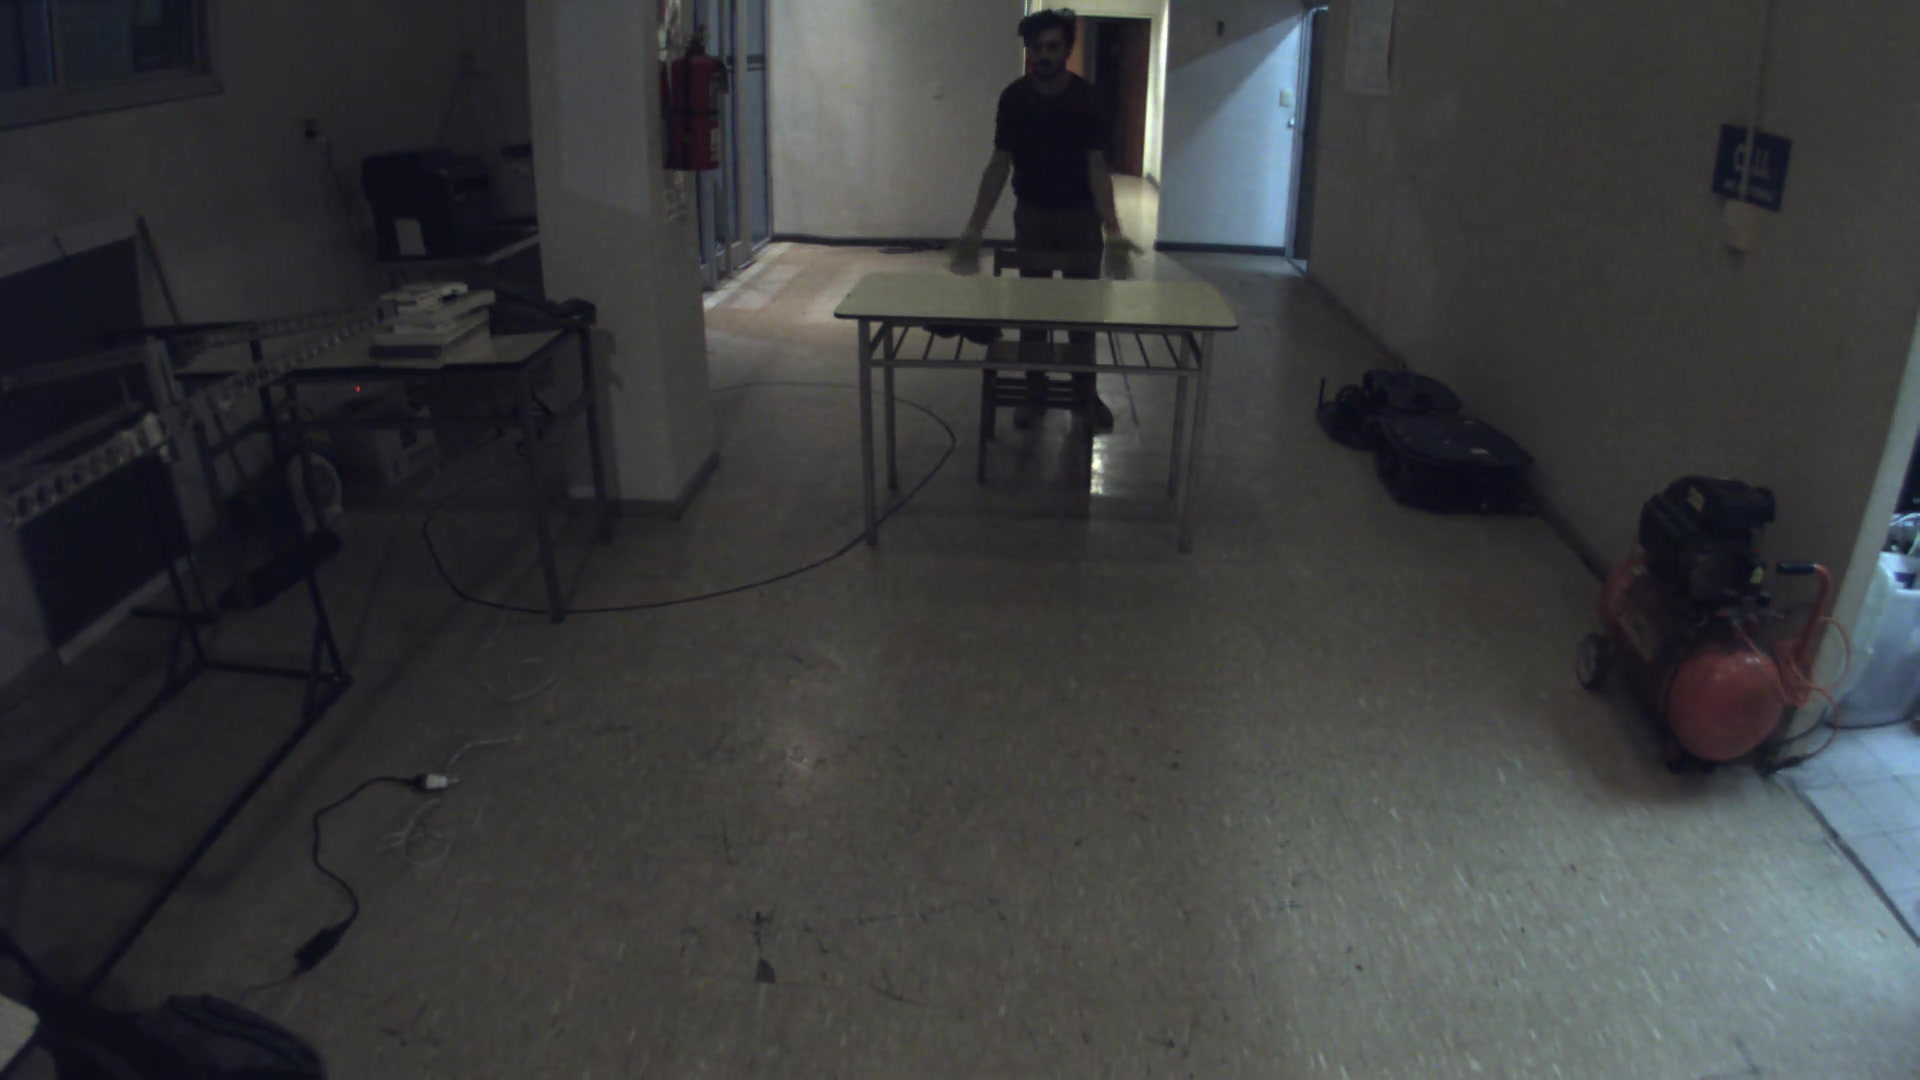hand: (1093, 233, 1175, 309), (938, 219, 994, 276)
